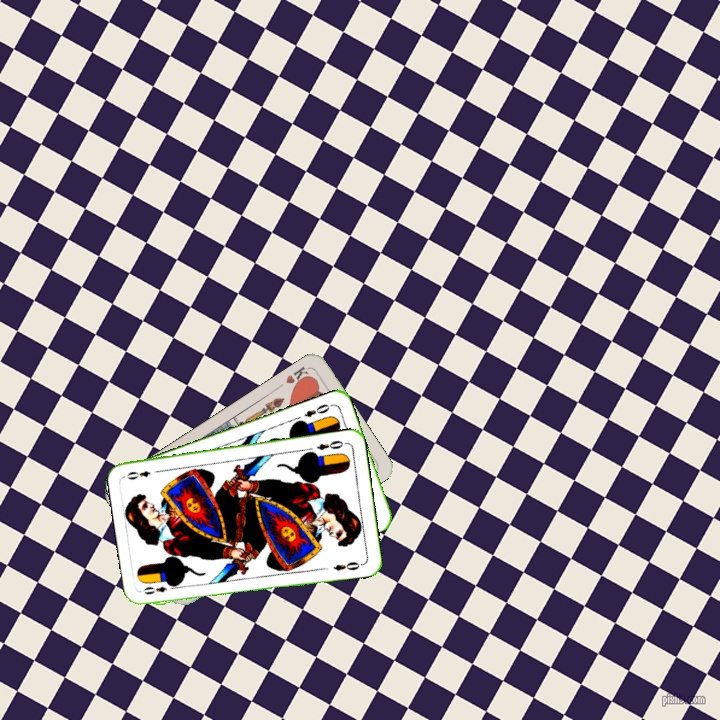EO: (301, 400, 336, 420), (139, 580, 179, 597), (313, 436, 349, 453)
HK: (282, 363, 313, 390)
